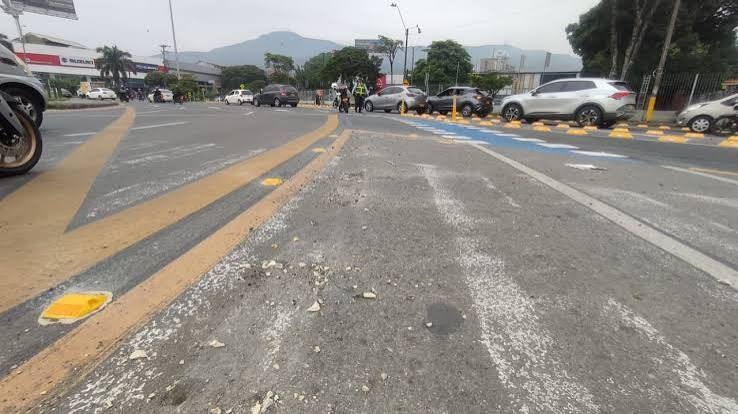car: (489, 76, 642, 127), (677, 84, 738, 137), (427, 86, 484, 114), (367, 86, 424, 112)
